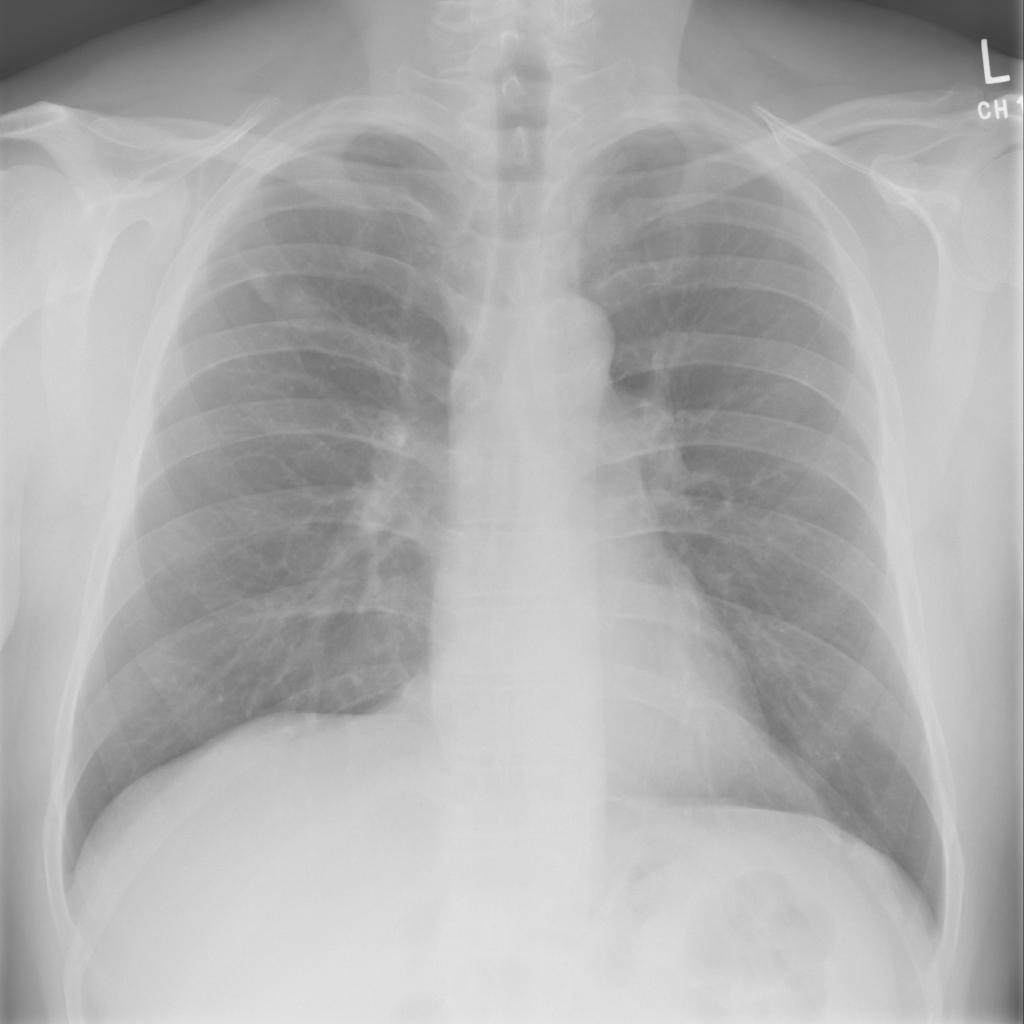Nodule: (96, 143, 131, 179)
